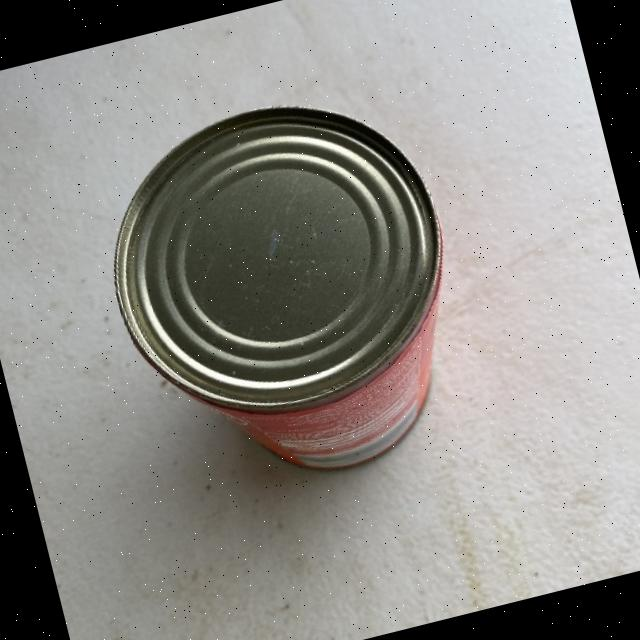metal: (78, 69, 490, 511)
